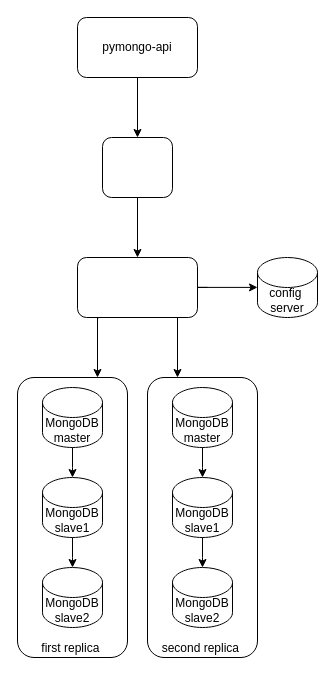
The diagram is 335 pixels wide and 675 high, and some of its shapes have lost their labels. The centre of each missing label's shape, as x and y in pixels:
Redis: the point at 137,167
Router: the point at 137,287
